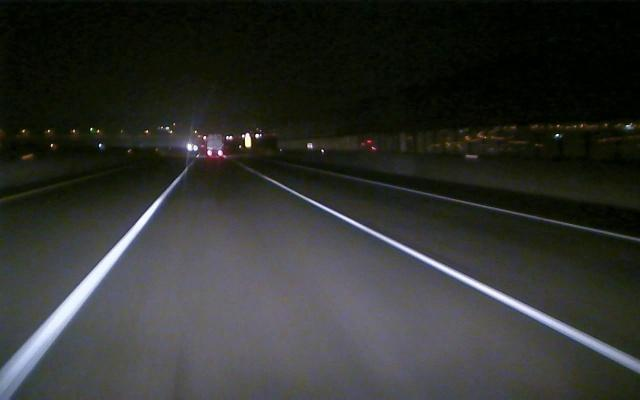lane: (274, 183, 638, 372), (0, 179, 179, 396), (359, 179, 637, 242), (0, 167, 125, 205)
